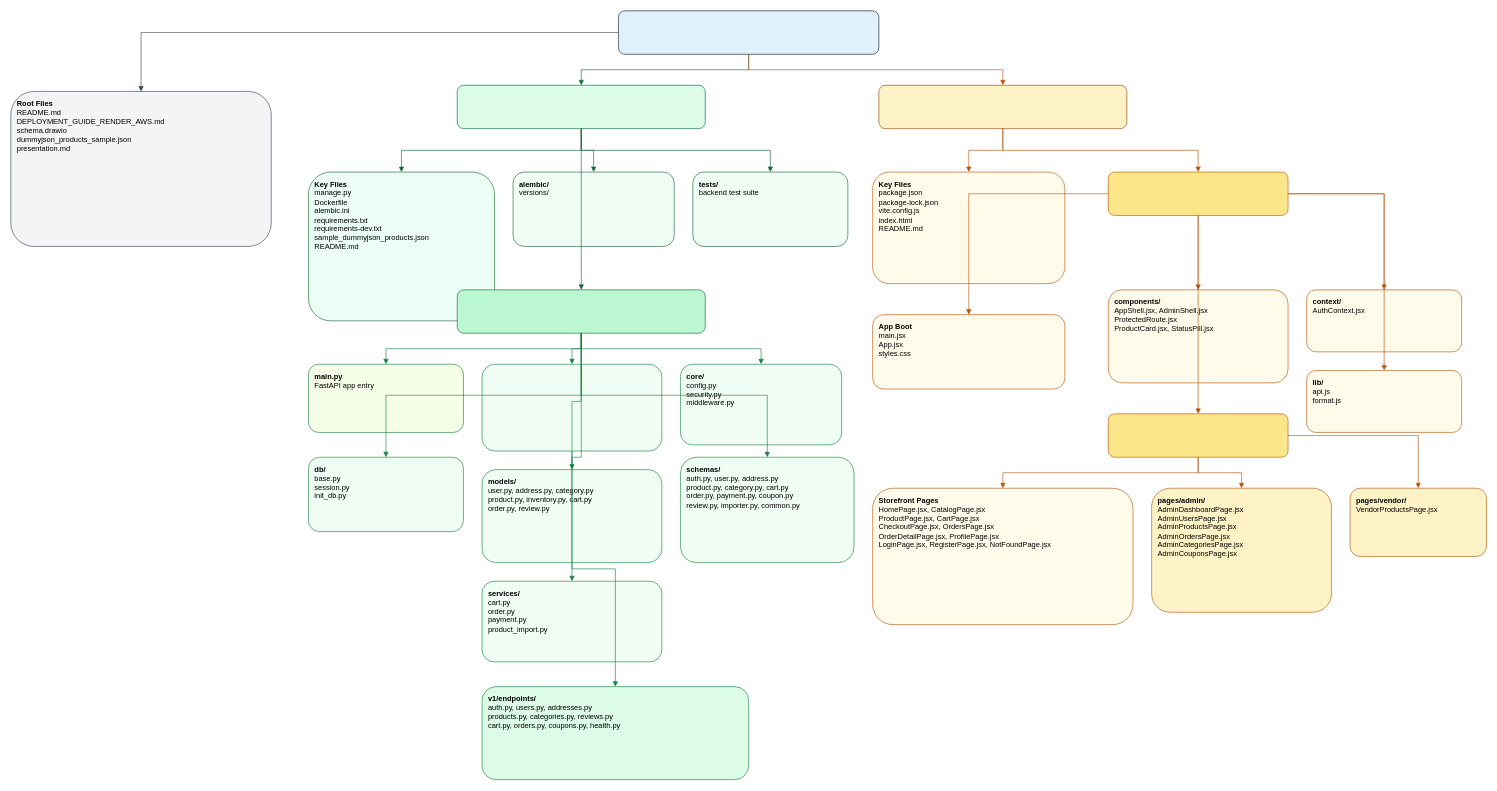
This 1497x791 diagram has some shape labels left out. Each missing label, with the centre of its shape:
api/ deps.py router.py v1/endpoints/*: the point at 571,407
app/ Application Package: the point at 581,311
ecom/ Repository Root: the point at 748,32
fastapi/ Backend API: the point at 581,107
pages/: the point at 1198,435
react/ Frontend SPA: the point at 1002,107
src/: the point at 1198,193
